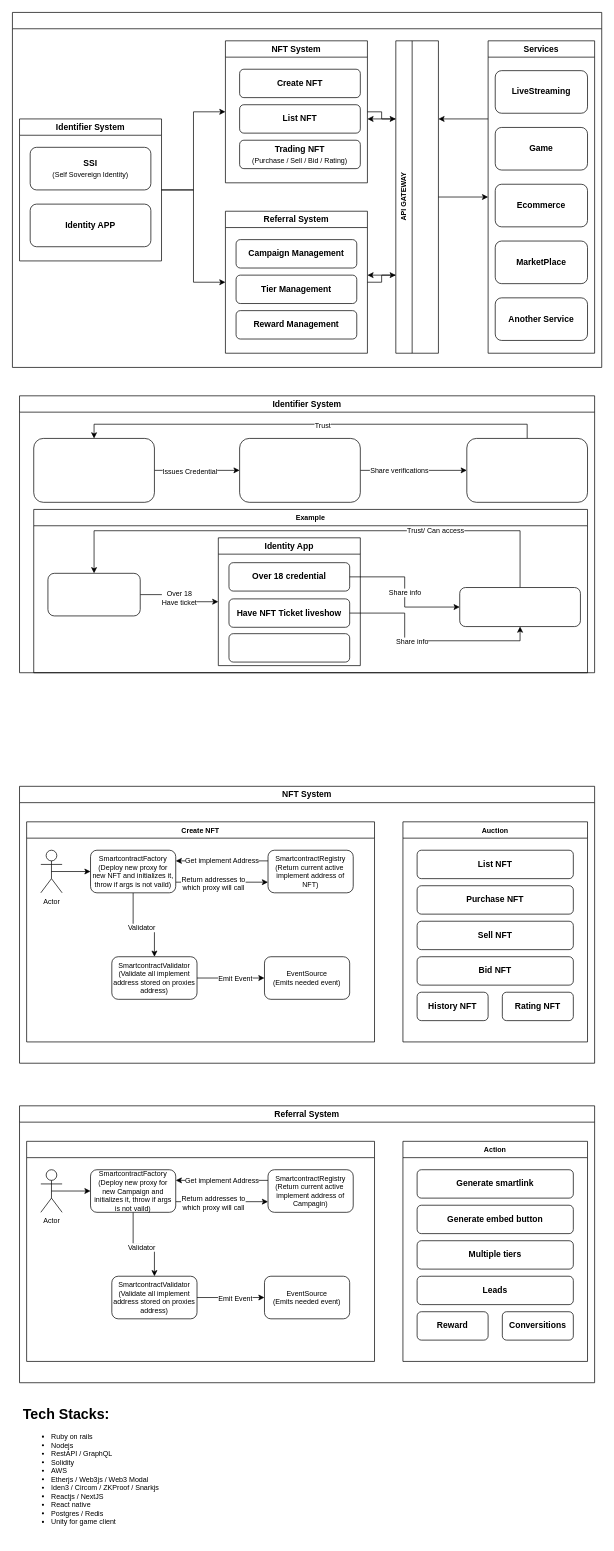
The diagram is 614 pixels wide and 1551 high, and some of its shapes have lost their labels. The centre of each missing label's shape, as x and y in pixels:
"Another credential" goes at point 289,647.
"Core Platform" goes at point 307,189.
"Create Campaign" goes at point 200,1251.
"Holder (Identity APP)" goes at point 299,470.
"Issuer" goes at point 93,470.
"LiveStream show (Issuer)" goes at point 93,594.
"Verifier" goes at point 527,470.
"Verifier (Holder)" goes at point 519,607.
